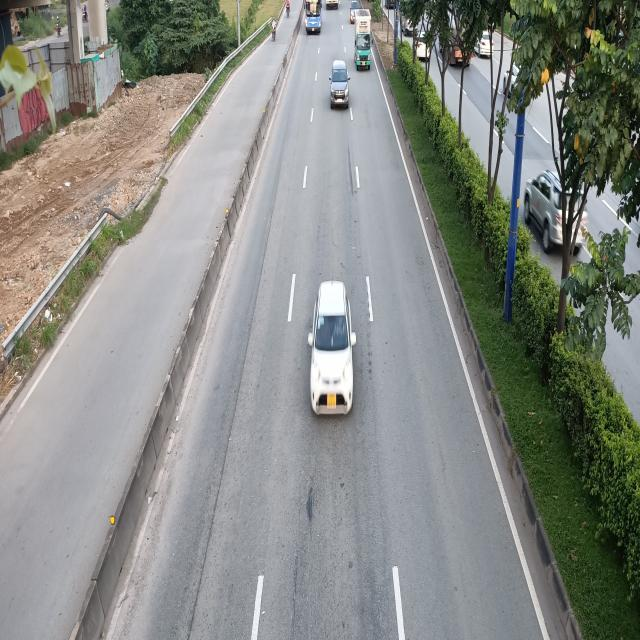car: (310, 282, 357, 418), (331, 58, 352, 108), (350, 0, 360, 24)
coach: (304, 0, 323, 33)
truck: (353, 9, 372, 71)
